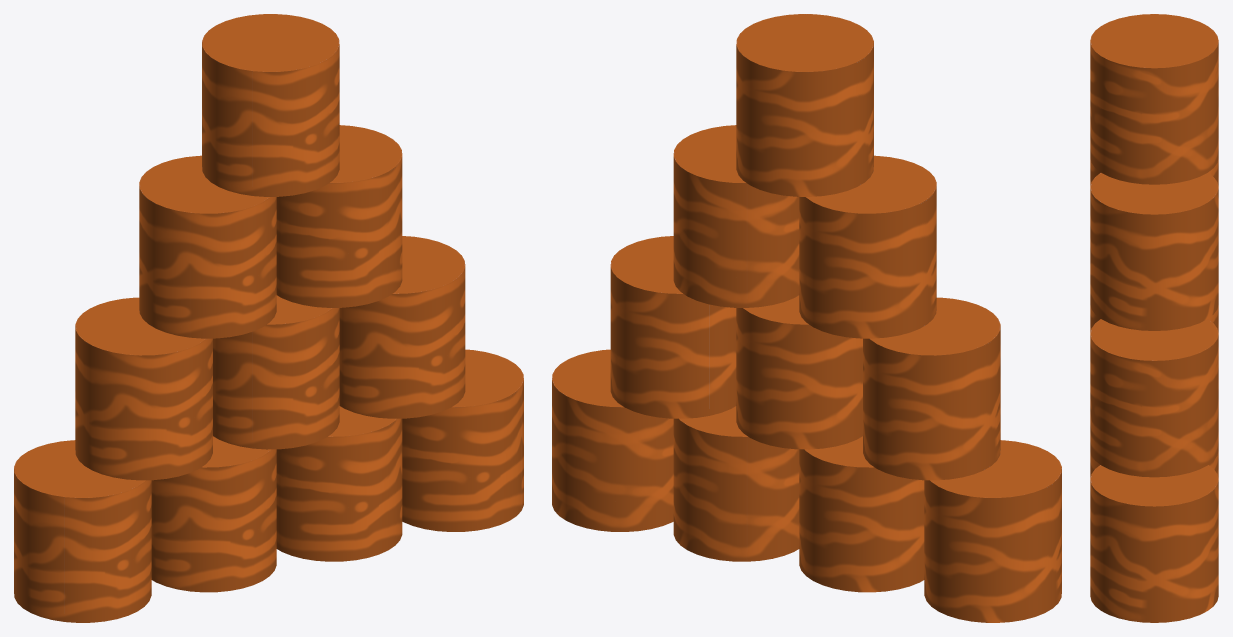
The model's file is Level2-1-UpperPart.fbx.
The picture shows the model from 3 angles, left to right: view 1: azimuth 30°, elevation 25°; view 2: azimuth 150°, elevation 25°; view 3: azimuth 270°, elevation 25°; orthographic projection. The views are drawn at different scales.
Parts seen in each view (by area): view 1: Cylinder.004, Cylinder.001, Cylinder.009, Cylinder.003, Cylinder.005, Cylinder.002, Cylinder.008, Cylinder.007, Cylinder.006, Cylinder; view 2: Cylinder.004, Cylinder.001, Cylinder.009, Cylinder.003, Cylinder.005, Cylinder.002, Cylinder.008, Cylinder.007, Cylinder.006, Cylinder; view 3: Cylinder.004, Cylinder.005, Cylinder.002, Cylinder.008, Cylinder, Cylinder.003, Cylinder.007.
Part boxes in pixels (x1,y1,x2,y2): Cylinder.004: (202, 14, 339, 196); Cylinder.001: (75, 297, 212, 480); Cylinder.009: (14, 440, 151, 622); Cylinder.003: (139, 155, 276, 338); Cylinder.005: (276, 125, 402, 307); Cylinder.002: (339, 236, 465, 418); Cylinder.008: (402, 349, 523, 531); Cylinder.007: (276, 406, 402, 561); Cylinder.006: (151, 436, 276, 592); Cylinder: (213, 295, 339, 449); Cylinder.004: (736, 14, 873, 196); Cylinder.001: (863, 297, 1000, 480); Cylinder.009: (924, 440, 1061, 622); Cylinder.003: (799, 155, 936, 338); Cylinder.005: (673, 125, 799, 307); Cylinder.002: (610, 236, 736, 418); Cylinder.008: (552, 349, 673, 531); Cylinder.007: (673, 406, 799, 561); Cylinder.006: (799, 436, 924, 592); Cylinder: (736, 295, 862, 449); Cylinder.004: (1090, 14, 1218, 184); Cylinder.005: (1090, 173, 1218, 330); Cylinder.002: (1090, 319, 1218, 477); Cylinder.008: (1090, 465, 1218, 622); Cylinder: (1090, 305, 1218, 332); Cylinder.003: (1090, 159, 1218, 185); Cylinder.007: (1090, 451, 1218, 477).
Size of the model in its own units: 1101 by 1080 by 267.
